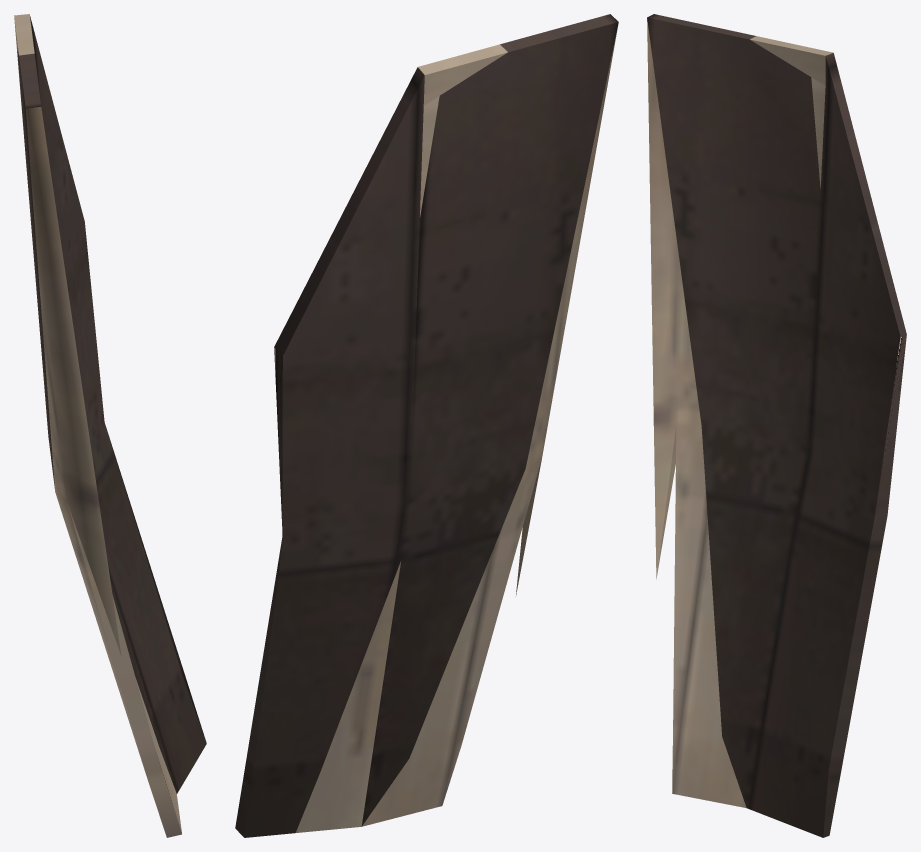
File: wooden_barrel_chunk02.glb
The picture shows the model from 3 angles, left to right: view 1: azimuth 30°, elevation 25°; view 2: azimuth 150°, elevation 25°; view 3: azimuth 270°, elevation 25°; orthographic projection. The views are drawn at different scales.
Parts seen in each view (by area): view 1: wooden_barrel_chunk02; view 2: wooden_barrel_chunk02; view 3: wooden_barrel_chunk02.
Boxes of the visible parts, left/top/right/bottom form: wooden_barrel_chunk02: left=14, top=14, right=206, bottom=837; wooden_barrel_chunk02: left=235, top=14, right=618, bottom=837; wooden_barrel_chunk02: left=647, top=14, right=906, bottom=837.
Bounding box in the file's own units: 0.195 × 0.5301 × 0.1757.
Materials: 1 (1 with a texture image).
